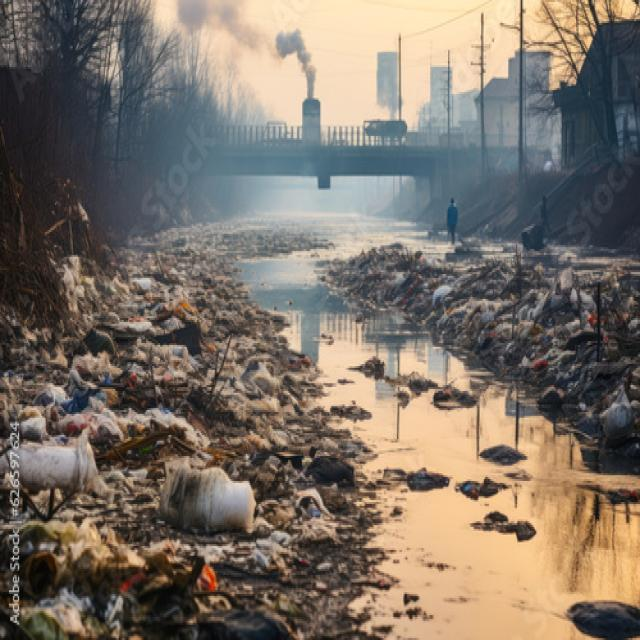trash: (59, 216, 265, 640), (378, 238, 606, 350), (5, 326, 64, 573)
